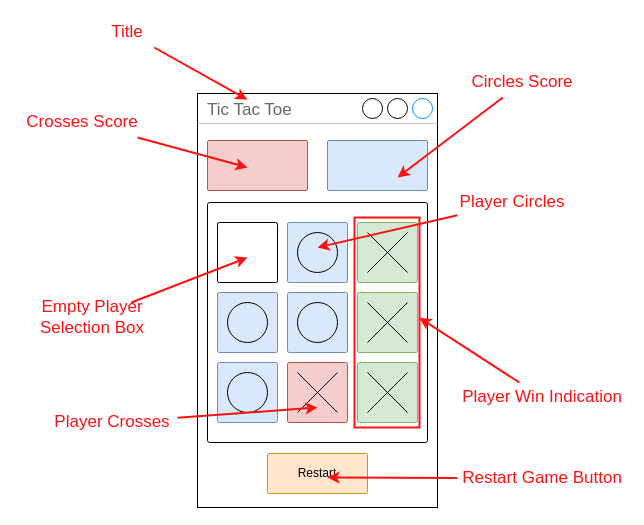
Image size: 644x525. Some labels were removed from this diagram. The shapes that lost their labels are listed below. From the top down, each one's centre as x and y in pixels, then its label:
point (257, 165): Crosses:
point (377, 165): Circles:
